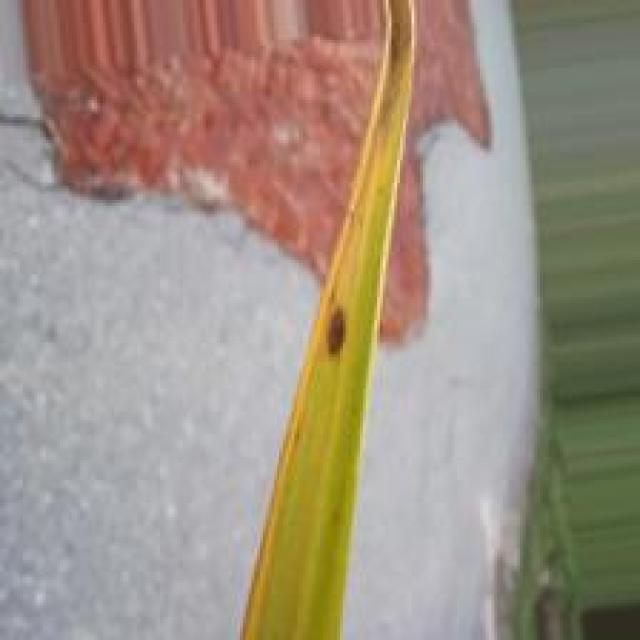Brown_Spot: (320, 297, 350, 366)
